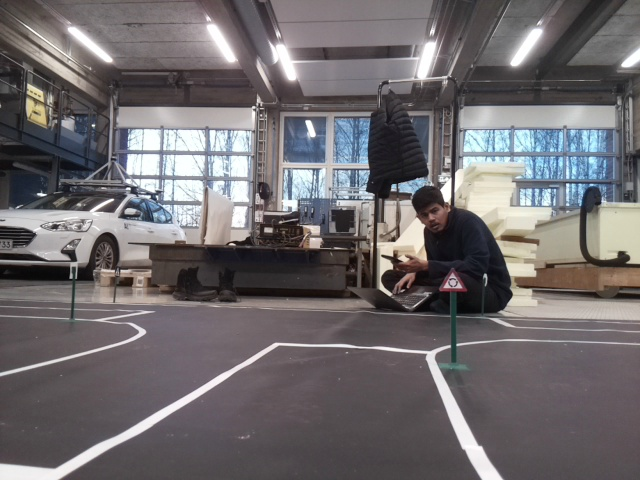Roundabout: (438, 268, 468, 292)
